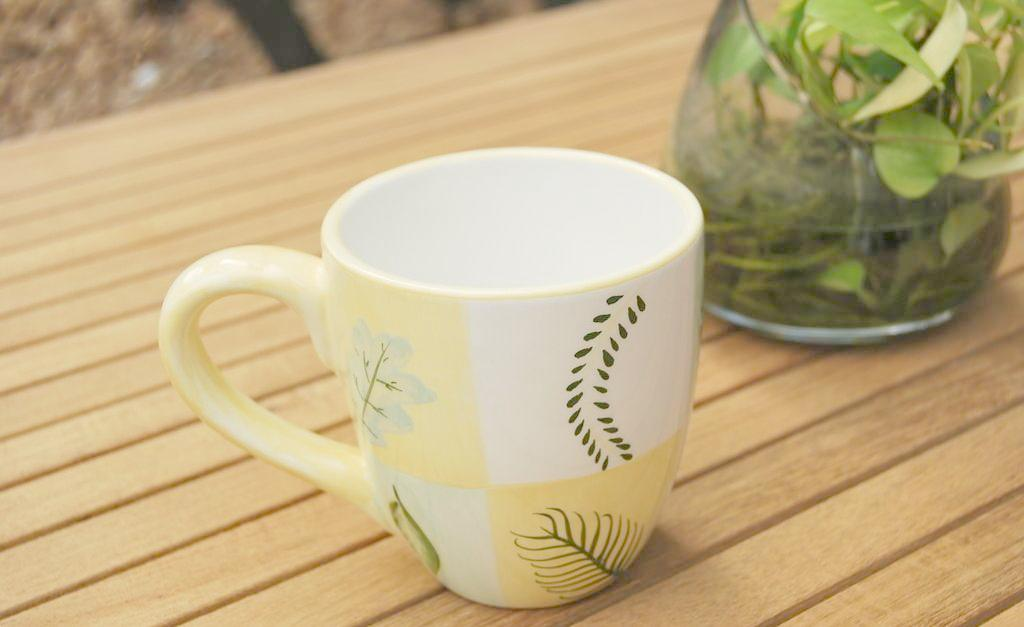cup: (150, 142, 708, 613)
